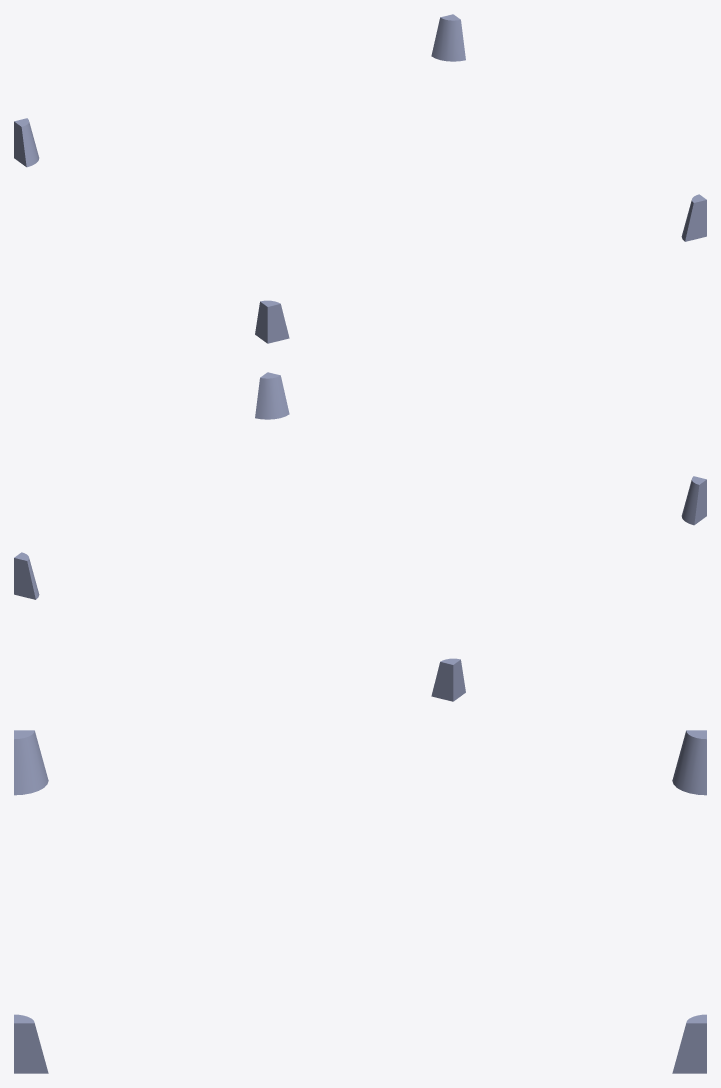
File: road-crossroad-barrier.glb
3 views of the same model, one above another, from view 1: azimuth 30°, elevation 25°; view 2: azimuth 150°, elevation 25°; view 3: azimuth 270°, elevation 25° (orthographic). The views are drawn at different scales.
Visible parts, largest first — view 1: road-crossroad-barrier; view 2: road-crossroad-barrier; view 3: road-crossroad-barrier.
Part boxes in pixels (x1=…): road-crossroad-barrier: x1=14, y1=14, x2=706, y2=343; road-crossroad-barrier: x1=14, y1=372, x2=706, y2=701; road-crossroad-barrier: x1=14, y1=730, x2=706, y2=1073.
Bounding box in the file's own units: 1 × 0.08 × 1.
